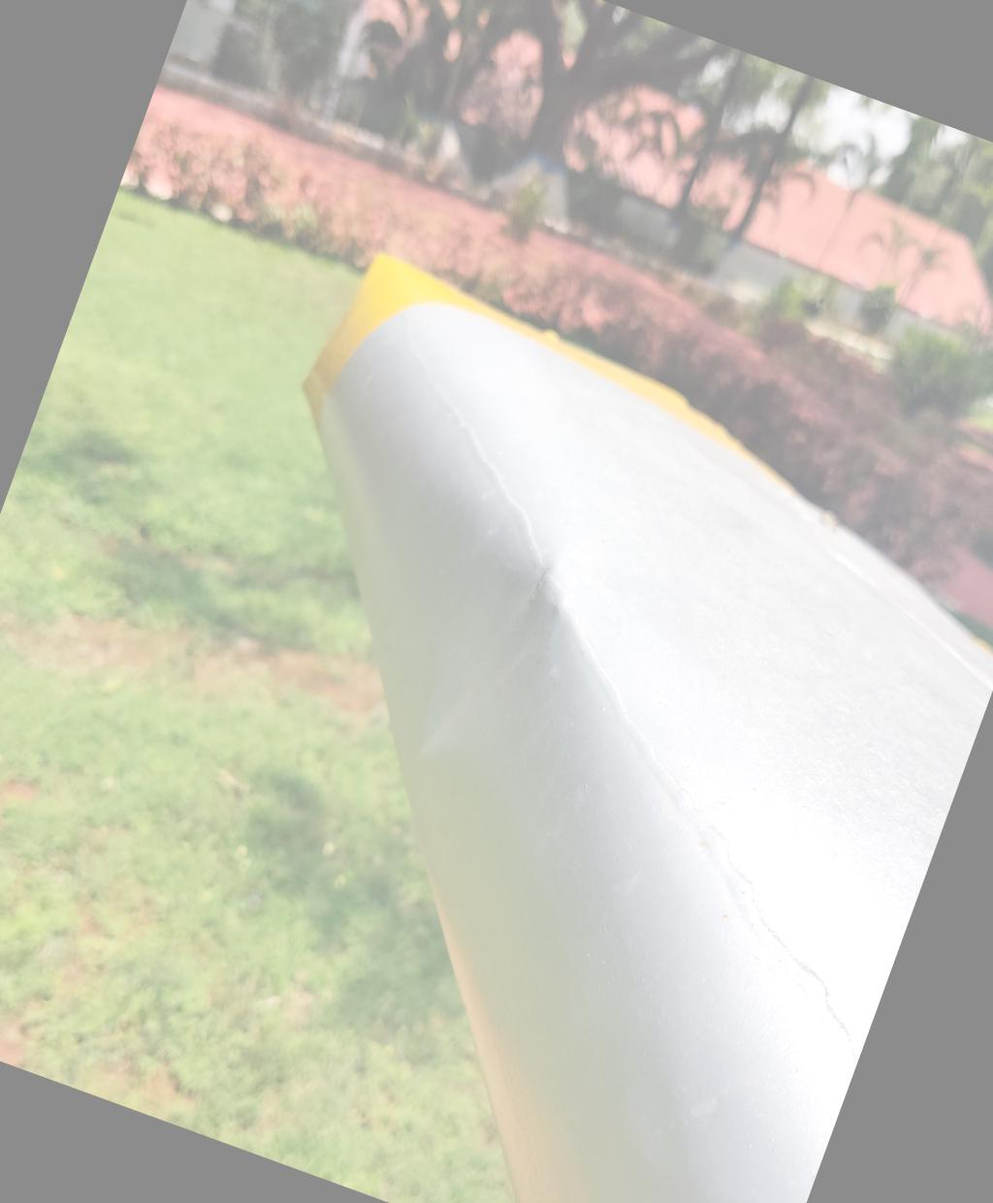dent: (361, 495, 629, 831)
